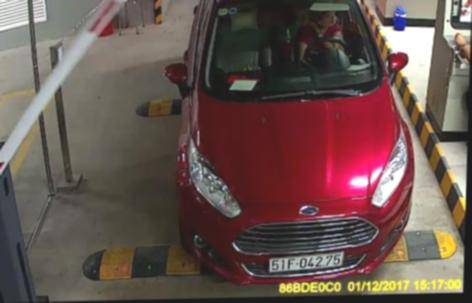License_Plate: (265, 252, 349, 274)
